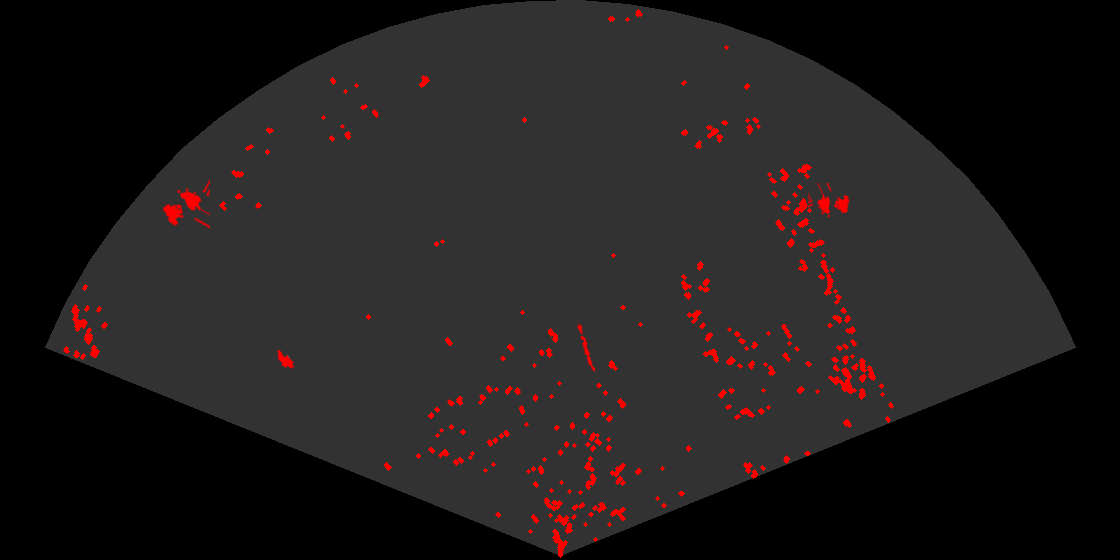AUV: (276, 348, 296, 370)
cage: (161, 177, 210, 230), (808, 183, 851, 219)
chain: (575, 322, 597, 374)
